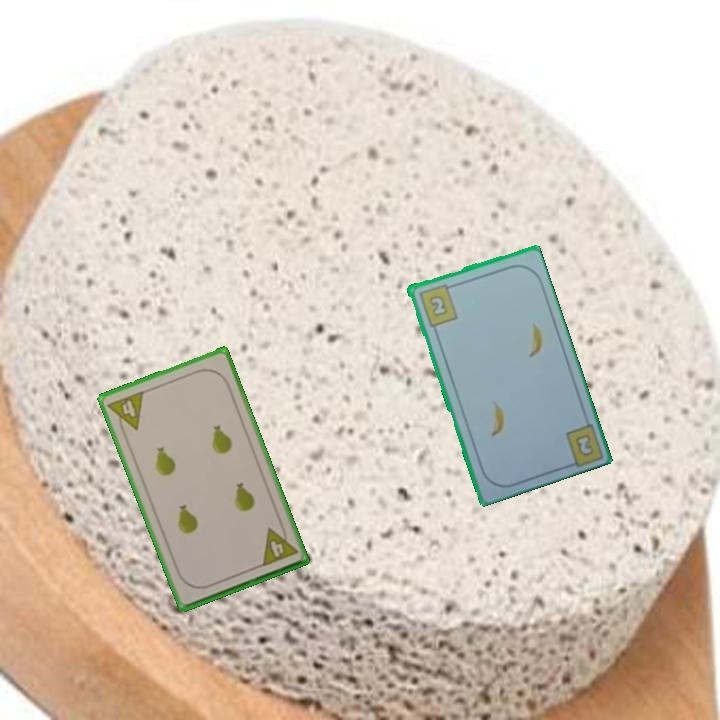2b: (415, 280, 460, 329), (571, 430, 597, 459)
4p: (104, 387, 147, 437), (258, 521, 300, 569)
